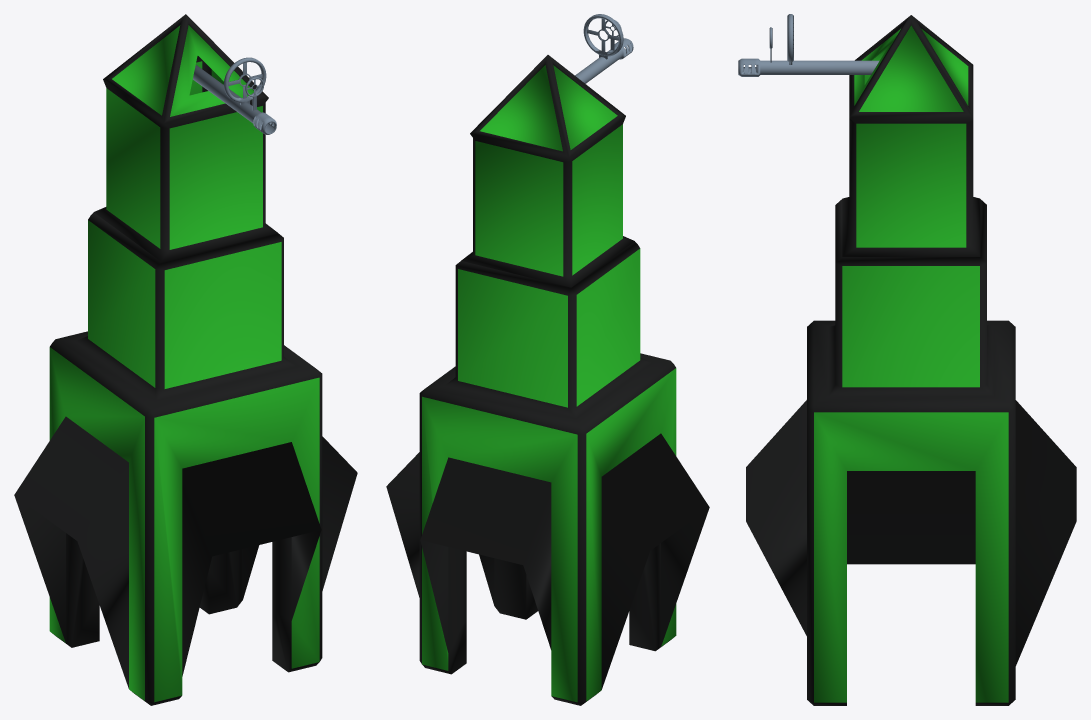
Rendered from Model_Defender_Sniper.fbx.
3 renders of one model, left to right at view 1: azimuth 30°, elevation 25°; view 2: azimuth 150°, elevation 25°; view 3: azimuth 270°, elevation 25°, orthographic. The views are drawn at different scales.
Parts seen in each view (by area): view 1: Cube, Cylinder.001; view 2: Cube, Cylinder.001; view 3: Cube.
Part boxes in pixels (left/top/right/bottom): Cube: left=14, top=14, right=357, bottom=705; Cylinder.001: left=223, top=57, right=266, bottom=105; Cube: left=386, top=38, right=709, bottom=705; Cylinder.001: left=583, top=14, right=623, bottom=59; Cube: left=738, top=15, right=1076, bottom=705.
Size of the model in its own units: 272 by 589 by 278.
